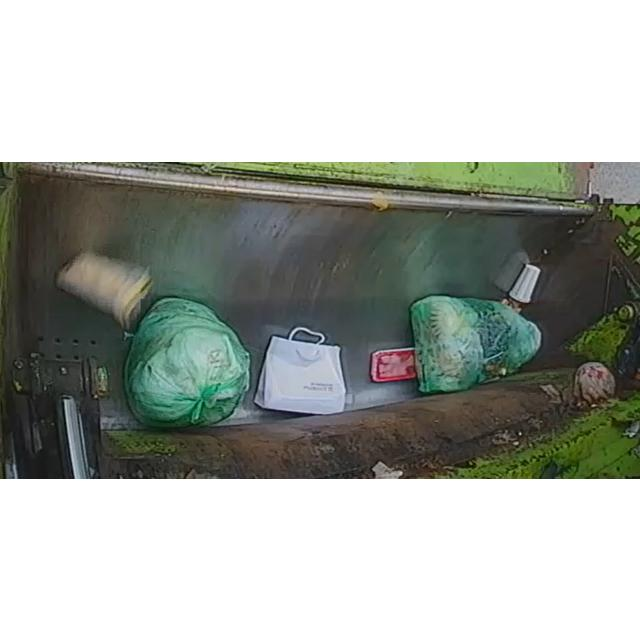general_trashbag: (125, 297, 250, 426), (411, 295, 541, 392)
